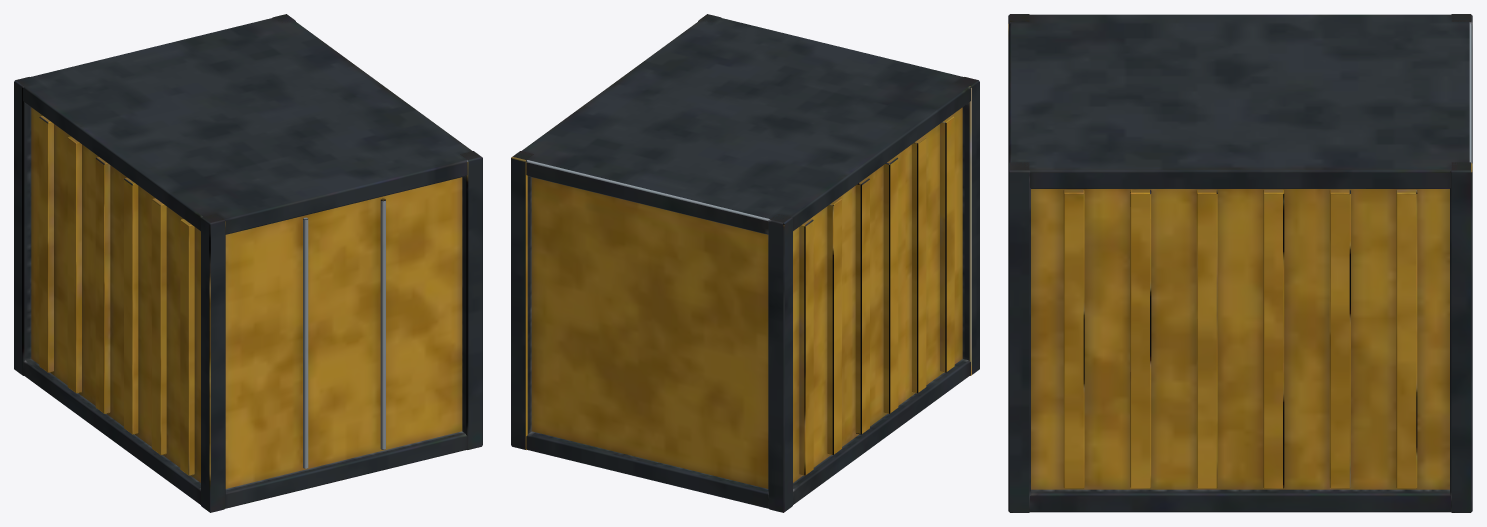
The model's file is container_short.glb.
3 views of the same model, side by side, from view 1: azimuth 30°, elevation 25°; view 2: azimuth 150°, elevation 25°; view 3: azimuth 270°, elevation 25° (orthographic). The views are drawn at different scales.
Visible parts, largest first — view 1: ContainerShort; view 2: ContainerShort; view 3: ContainerShort.
Part boxes in pixels (x1,y1,x2,y2): ContainerShort: [14, 14, 482, 512]; ContainerShort: [511, 14, 979, 512]; ContainerShort: [1008, 14, 1472, 512].
Size of the model in its own units: 2.47 by 2.5 by 3.07.
1 material, 1 textured.
